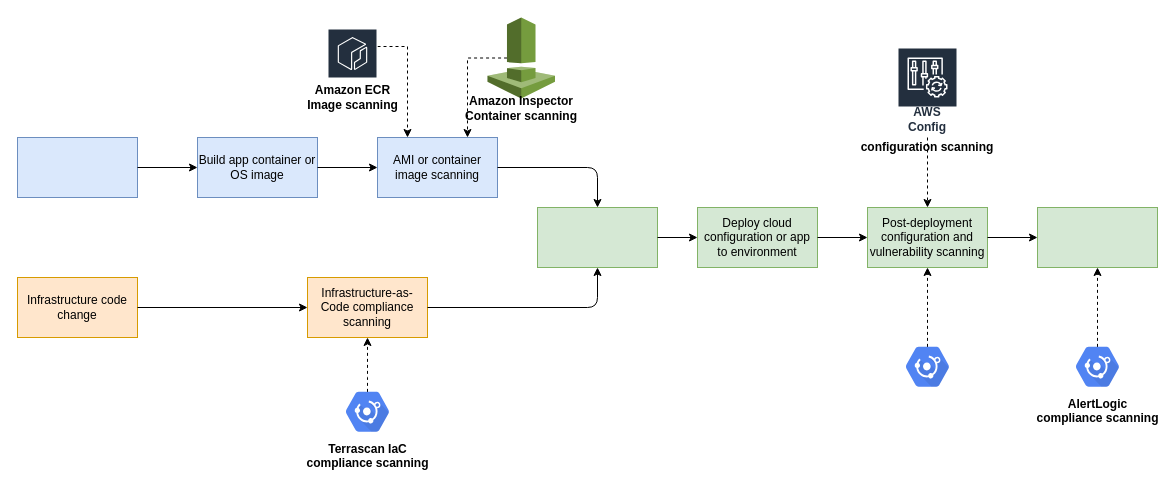
This 1176x488 diagram has some shape labels left out. Here are the shapes that lost their labels. From the top down, the box of each, then its label:
(16, 136, 138, 198): App code or OS change
(536, 206, 658, 268): Update cloud and infrastructure configuration
(1036, 206, 1158, 268): Post-deployment compliance scanning
(894, 337, 960, 396): Tenable.io vulnerability scanning
